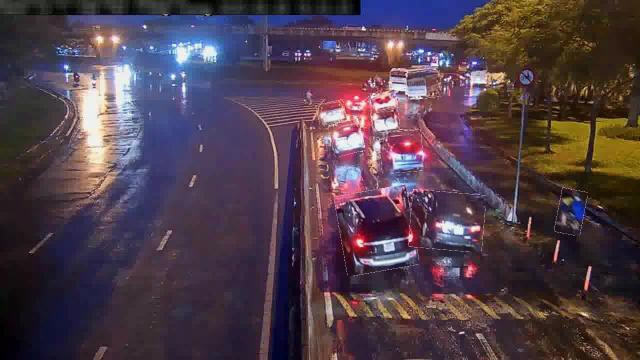Bike: (556, 189, 586, 235)
Car: (338, 187, 417, 273), (410, 191, 484, 251), (381, 130, 424, 174), (330, 121, 364, 156), (316, 101, 346, 125), (372, 108, 401, 132), (368, 92, 398, 112)
Truck: (406, 70, 442, 100)
